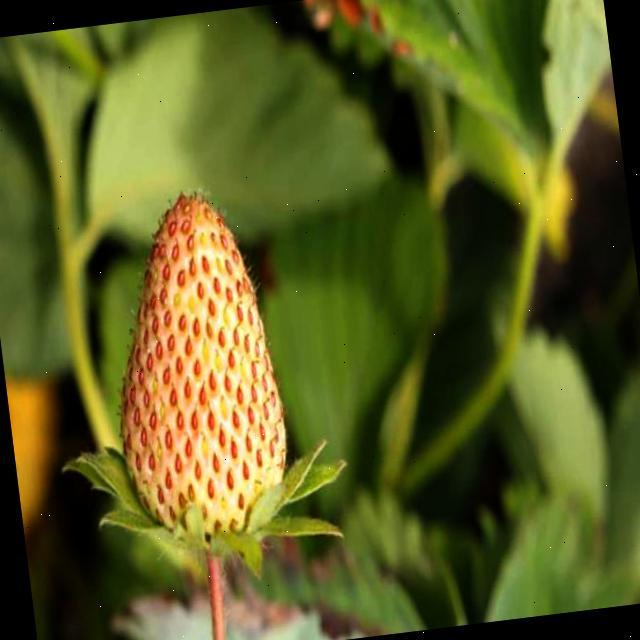strawberry: (94, 186, 298, 560)
